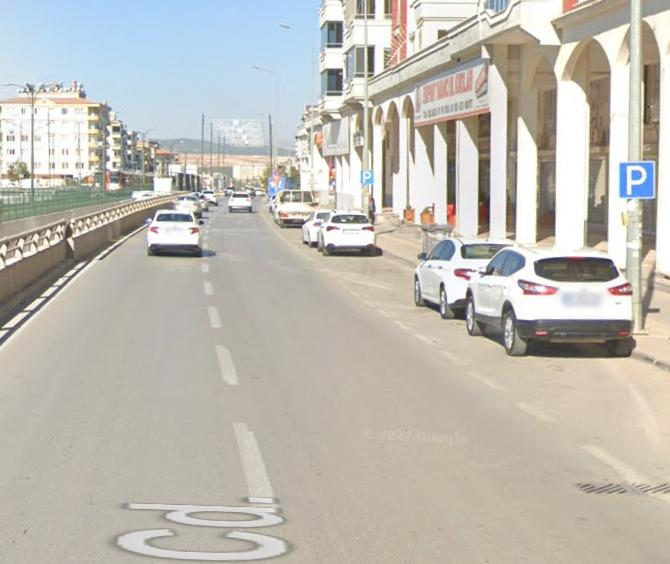park: (620, 162, 652, 200), (359, 169, 373, 186)
